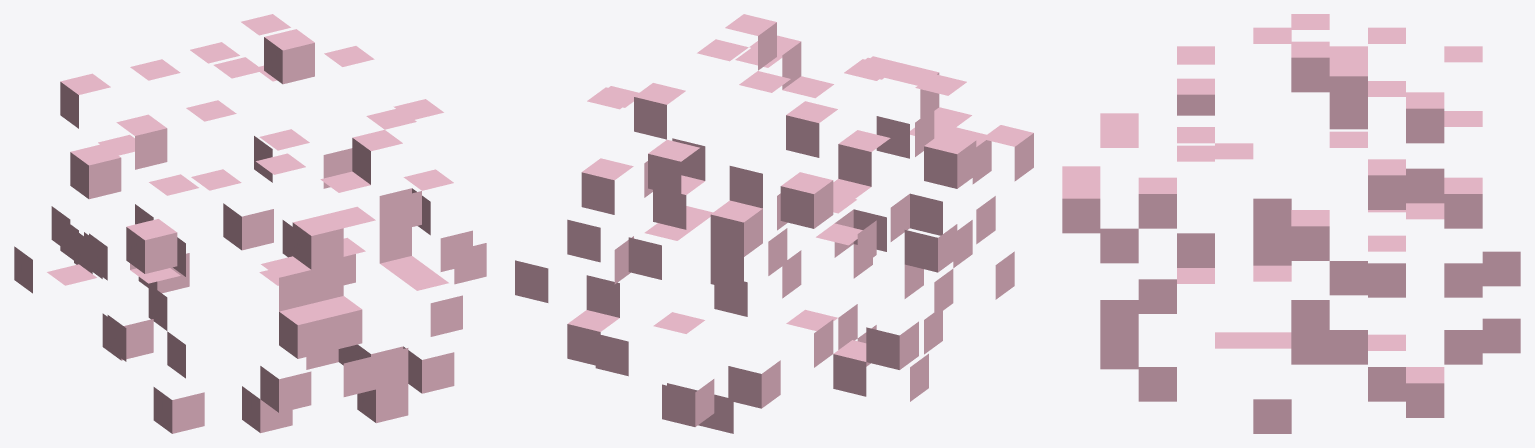
The model's file is tree-cherry-1-pink1-ffc9dc.gltf.
3 views of the same model, side by side, from view 1: azimuth 30°, elevation 25°; view 2: azimuth 150°, elevation 25°; view 3: azimuth 270°, elevation 25° (orthographic). The views are drawn at different scales.
Visible parts, largest first — view 1: tree-cherry-1-pink1-ffc9dc; view 2: tree-cherry-1-pink1-ffc9dc; view 3: tree-cherry-1-pink1-ffc9dc.
Part boxes in pixels (x1,y1,x2,y2): tree-cherry-1-pink1-ffc9dc: (14,14,486,433); tree-cherry-1-pink1-ffc9dc: (515,14,1033,433); tree-cherry-1-pink1-ffc9dc: (1062,14,1520,433).
Size of the model in its own units: 11 by 10 by 12.
